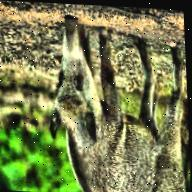boar: (39, 18, 192, 192)
